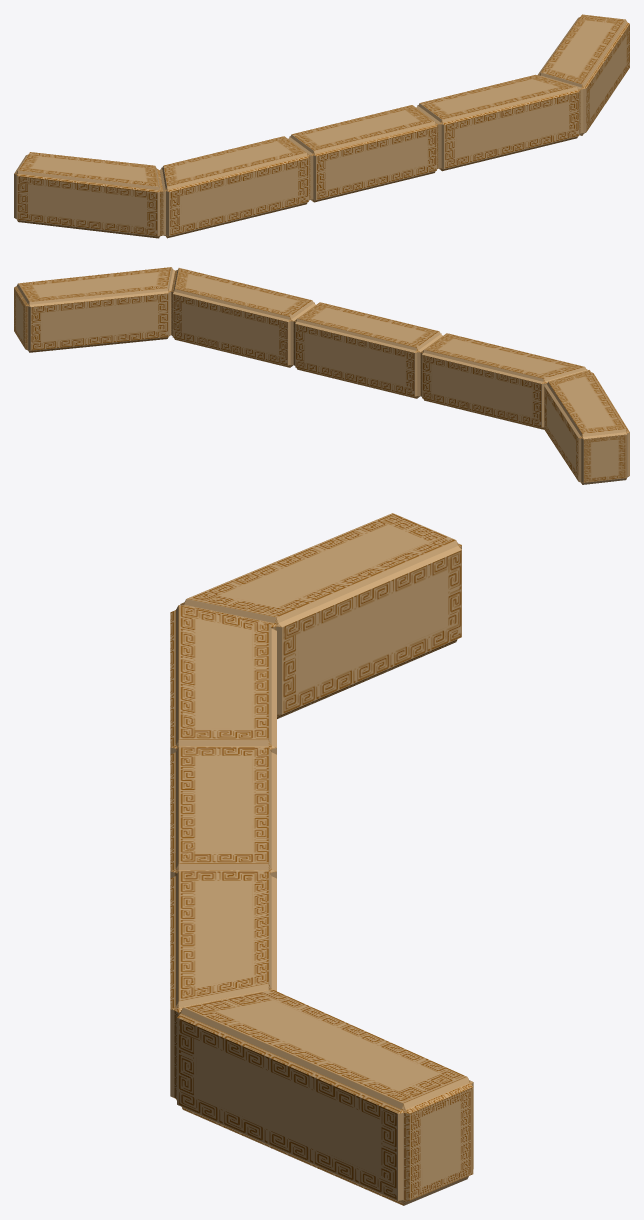
Rendered from lateral.fbx.
3 renders of one model, top to bottom at view 1: azimuth 30°, elevation 25°; view 2: azimuth 150°, elevation 25°; view 3: azimuth 270°, elevation 25°, orthographic. The views are drawn at different scales.
Visible parts, largest first — view 1: lateral; view 2: lateral; view 3: lateral.
Part boxes in pixels (<box>): lateral: <box>14,14,629,238</box>; lateral: <box>14,267,629,484</box>; lateral: <box>170,513,473,1205</box>.
Bounding box in the file's own units: 1539 × 123 × 331.
